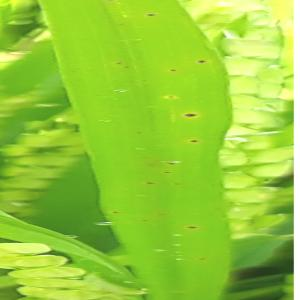0 BrownSpot: (161, 89, 181, 103), (193, 253, 211, 268), (181, 108, 201, 121), (141, 8, 160, 20), (185, 134, 202, 146), (166, 64, 182, 76), (142, 176, 157, 188), (170, 178, 185, 190), (194, 55, 210, 66), (164, 157, 178, 169), (185, 221, 200, 232), (110, 205, 122, 218), (156, 209, 170, 220), (133, 127, 146, 138), (161, 165, 172, 177), (140, 216, 151, 226), (121, 63, 134, 71), (116, 19, 126, 29), (113, 59, 124, 68), (139, 81, 151, 89), (141, 76, 149, 83)
